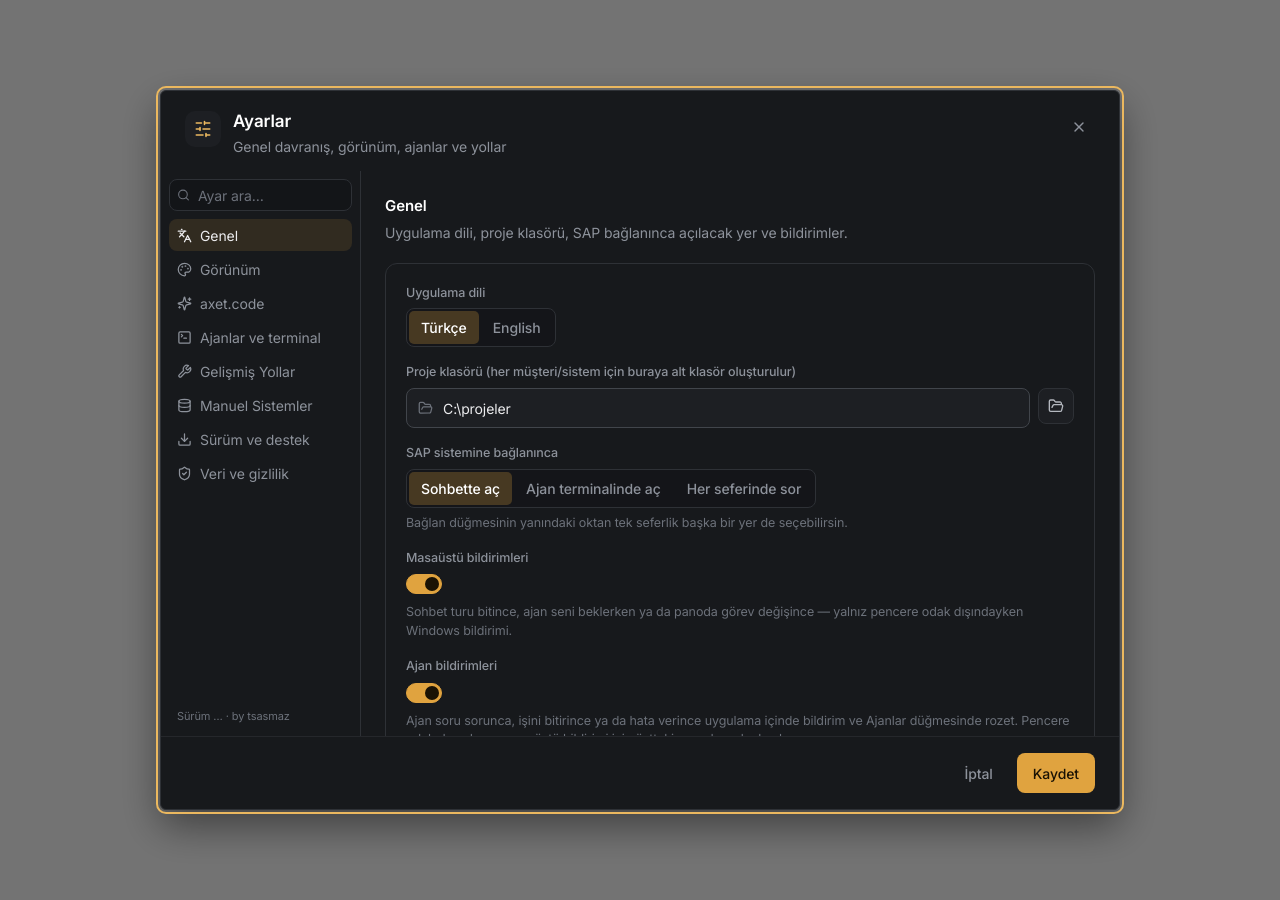
Ayarlar → Görünüm › eski seçime dönülünce değişiklik sayılmıyor
Click the tab "Görünüm" at (260, 269), box [169,253,352,285]
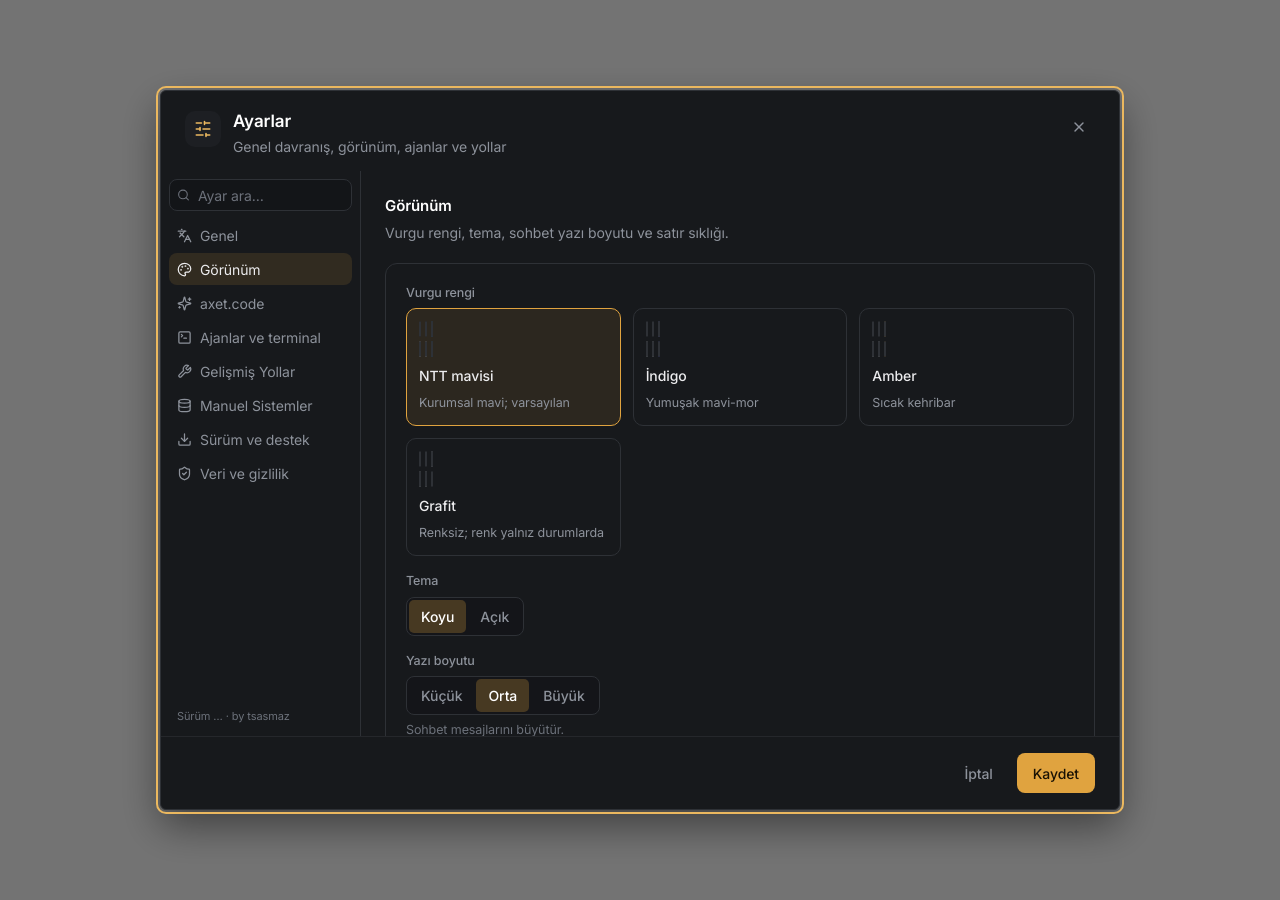
Click the radio button labelled "Amber" at (967, 367), box [859,308,1074,426]
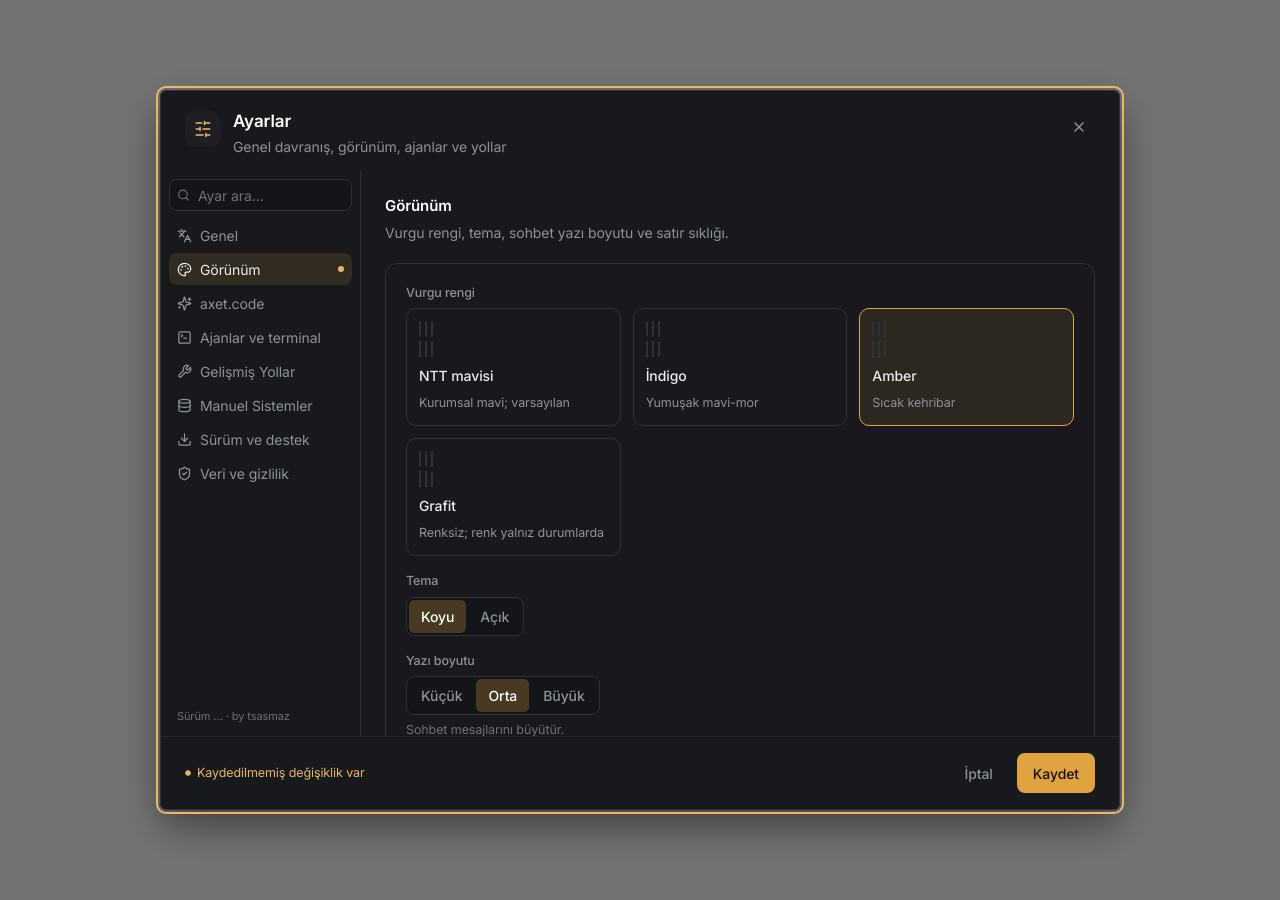
Result: the text "Kaydedilmemiş değişiklik var" is shown at [185,764,364,782]
Click the radio button labelled "NTT mavisi" at (513, 367), box [406,308,621,426]
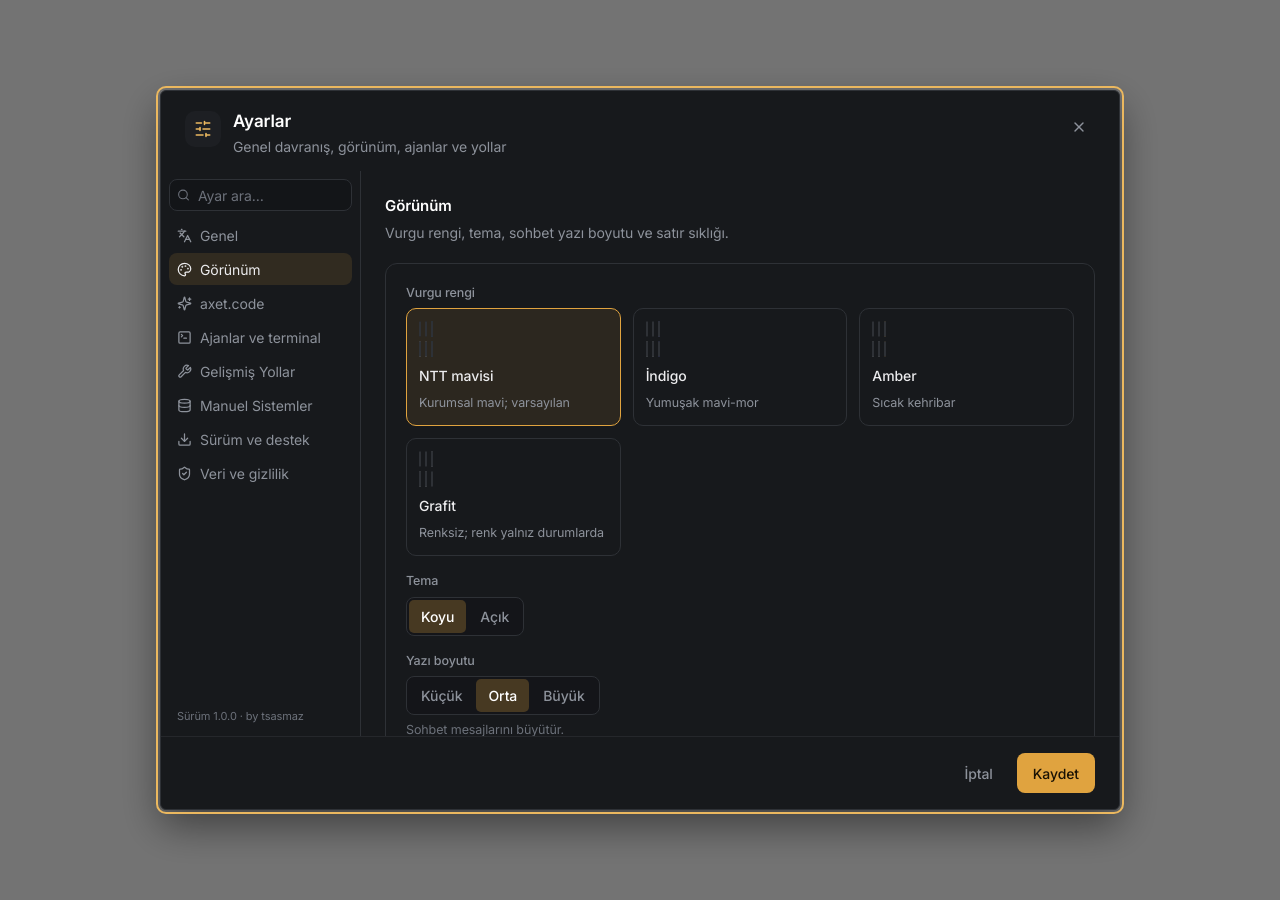
Result: the text "Kaydedilmemiş değişiklik var" is gone
